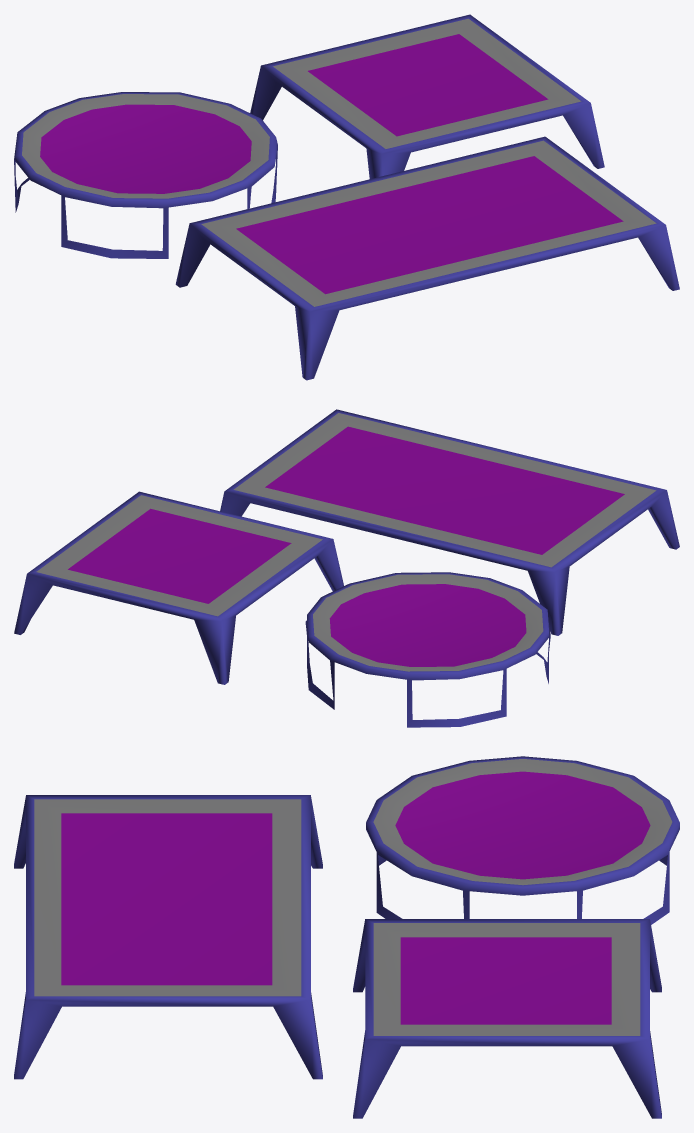
The model's file is tramoline.fbx.
3 views of the same model, one above another, from view 1: azimuth 30°, elevation 25°; view 2: azimuth 150°, elevation 25°; view 3: azimuth 270°, elevation 25° (orthographic). The views are drawn at different scales.
Visible parts, largest first — view 1: Cube.000, Cube.002, Cylinder.002; view 2: Cube.000, Cube.002, Cylinder.002; view 3: Cube.000, Cube.002, Cylinder.002.
Boxes of the visible parts, x1,y1,x2,y2 form: Cube.000: (175,136,679,380); Cube.002: (250,14,604,178); Cylinder.002: (14,92,277,258); Cube.000: (220,409,679,635); Cube.002: (14,491,343,684); Cylinder.002: (305,572,550,727); Cube.000: (14,795,322,1079); Cube.002: (353,919,661,1118); Cylinder.002: (366,756,679,924).
Size of the model in its own units: 1716 by 206 by 1672.
